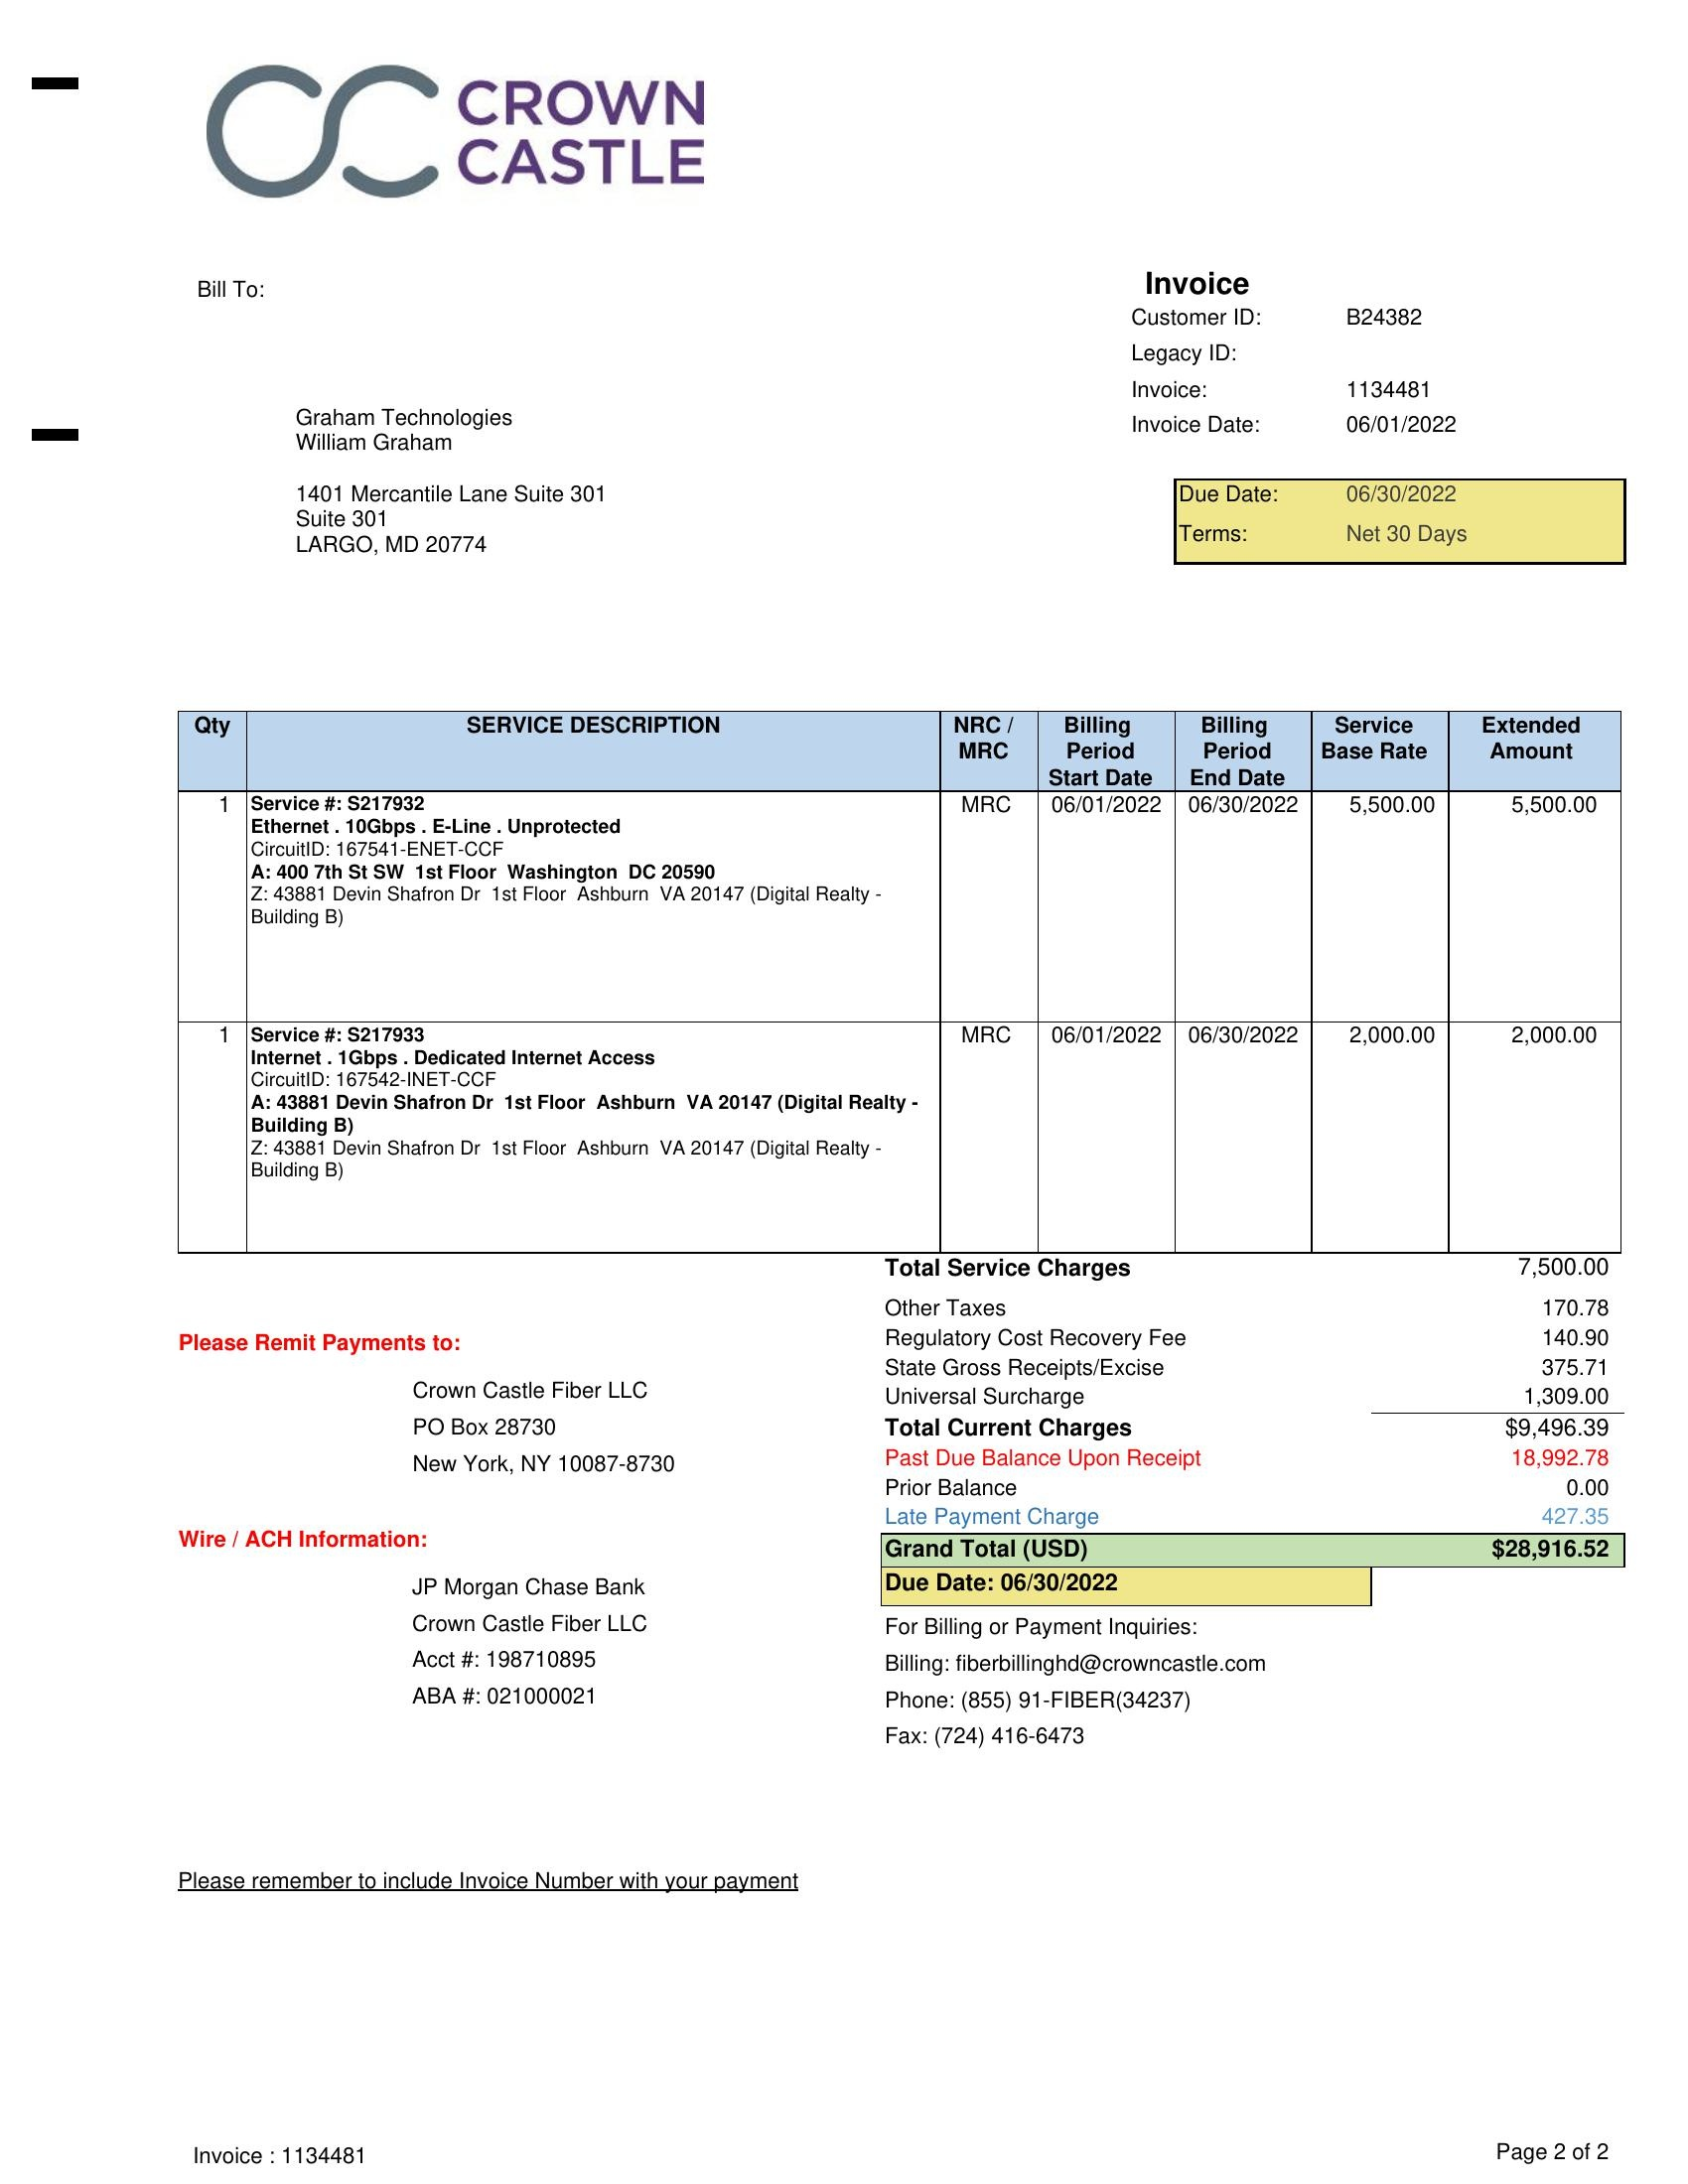0 table: (160, 684, 1628, 1241)
